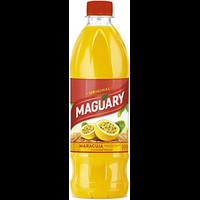maguary: (67, 1, 129, 199)
